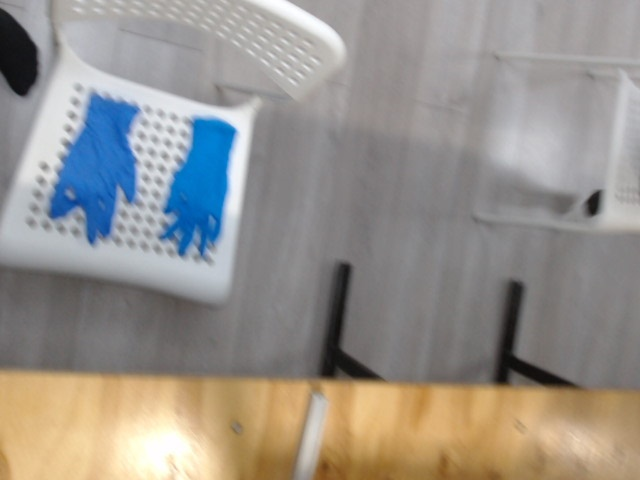medical_glove: (50, 94, 141, 235), (163, 118, 236, 260)
